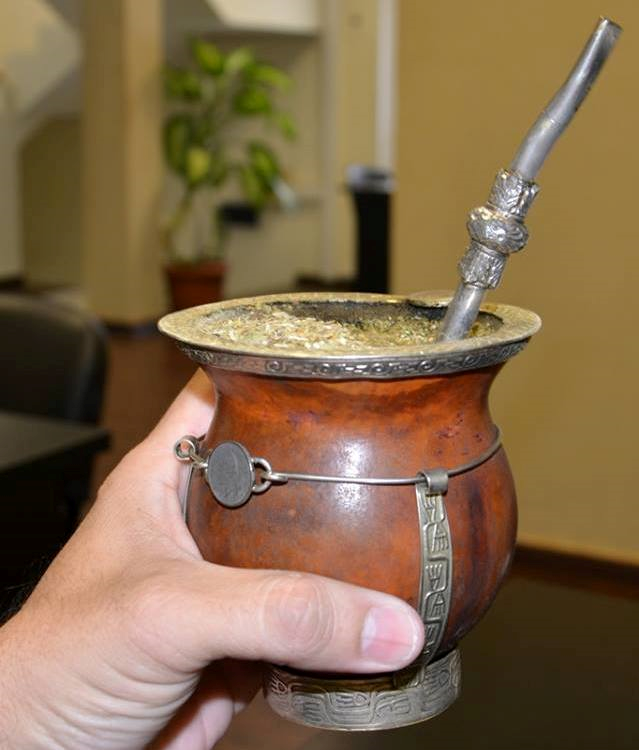calabaza: (146, 291, 550, 730)
mate: (148, 293, 552, 732)
